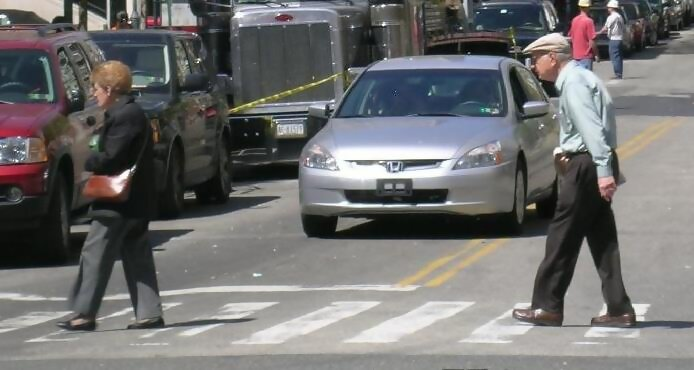person: (512, 31, 646, 332), (45, 57, 182, 335)
